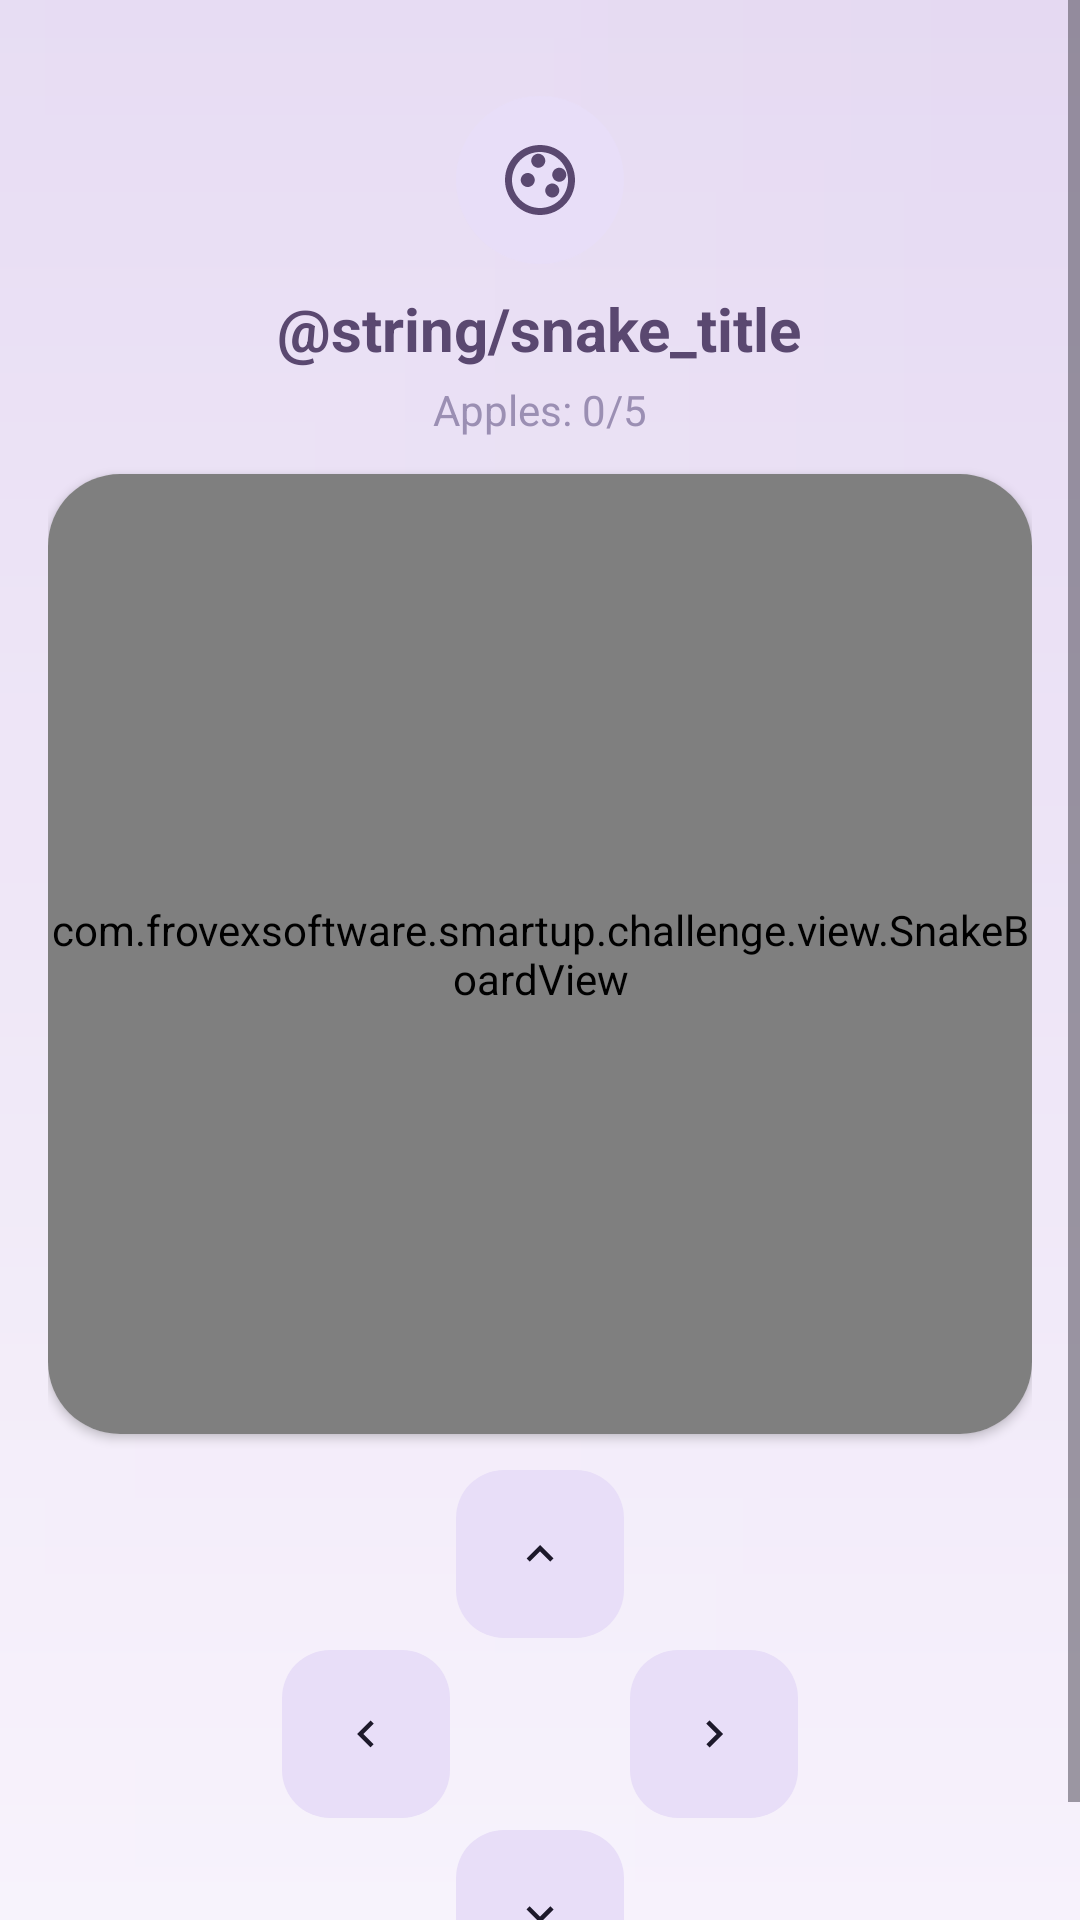

Screen size 1080 x 1920. Icon name, then its center in pixels as (x,y):
arrow left: (366,1734)
arrow right: (714,1734)
arrow up: (540,1554)
